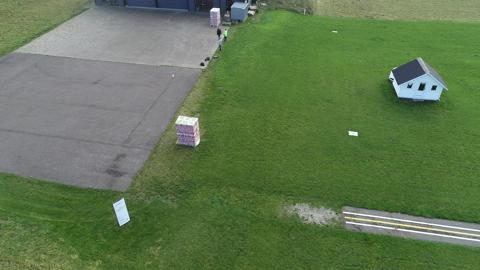RockwoolPallet: (209, 7, 222, 27)
